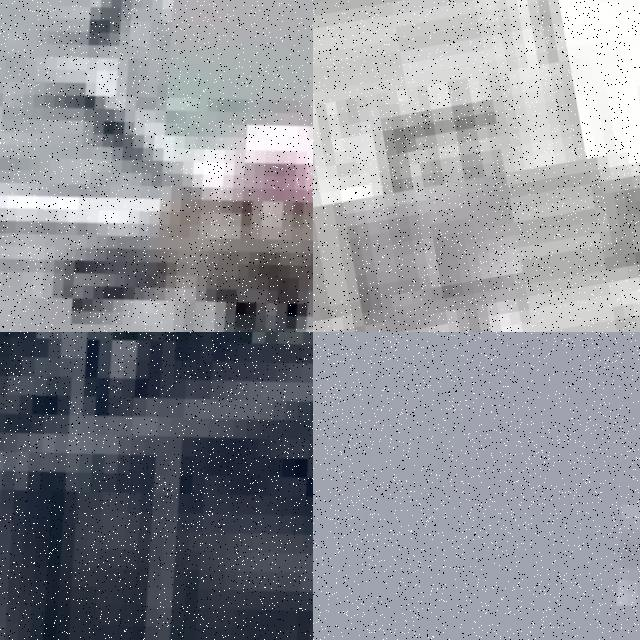drone: (0, 0, 313, 332), (313, 332, 640, 640), (0, 332, 313, 640)
